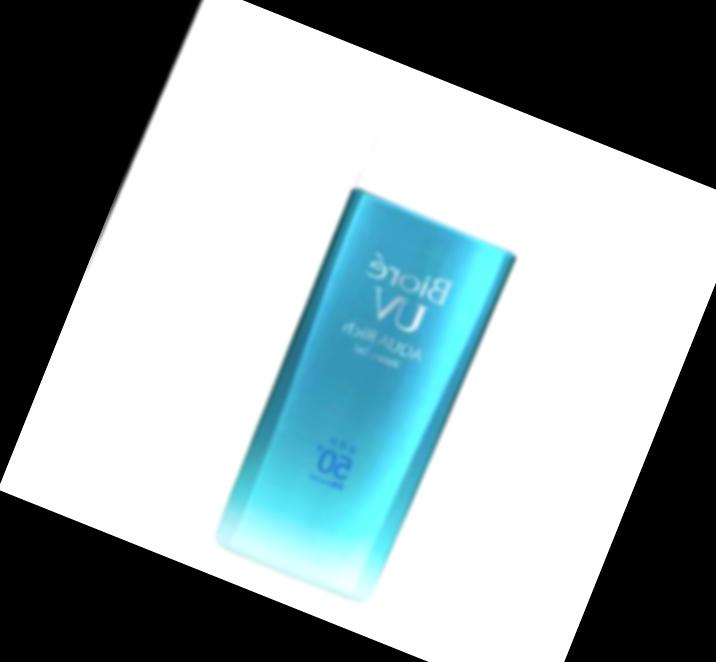cosmetic: (200, 76, 570, 615)
